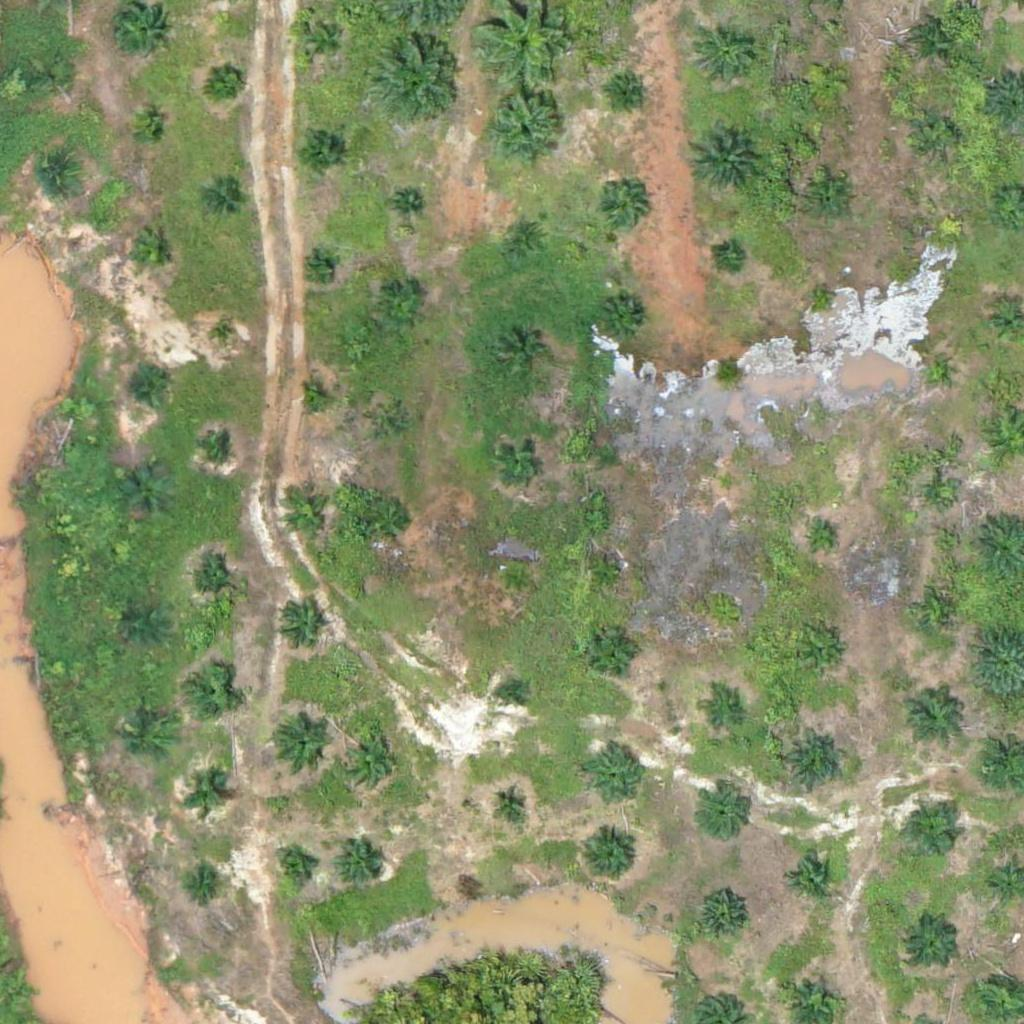Kelapa_Sawit: (481, 86, 569, 174), (372, 35, 460, 123), (687, 122, 762, 198), (899, 683, 962, 746), (784, 729, 847, 792), (338, 730, 401, 793), (695, 24, 757, 87), (578, 826, 640, 889), (582, 744, 644, 807), (111, 1, 173, 64), (272, 712, 334, 775), (368, 495, 418, 546), (698, 788, 748, 839), (695, 889, 745, 940), (786, 853, 836, 904), (588, 625, 638, 676), (912, 15, 962, 66), (913, 109, 963, 160), (801, 55, 851, 106), (281, 489, 331, 540), (127, 228, 177, 279), (910, 808, 960, 858), (906, 918, 956, 968), (807, 176, 857, 226), (189, 560, 239, 610), (187, 669, 237, 719), (276, 602, 326, 652), (336, 838, 386, 888), (596, 182, 646, 232), (599, 296, 649, 346), (496, 435, 546, 485), (496, 328, 546, 378), (503, 214, 553, 264), (376, 284, 426, 334), (295, 124, 345, 174), (123, 468, 173, 518), (298, 15, 348, 65), (125, 719, 175, 769), (701, 694, 739, 732), (186, 774, 224, 812), (187, 865, 225, 903), (274, 848, 312, 886), (127, 369, 165, 407), (806, 637, 843, 675), (493, 785, 530, 823), (497, 561, 535, 598), (371, 406, 409, 443), (130, 113, 168, 150), (127, 607, 164, 645), (37, 59, 75, 96), (210, 61, 247, 99), (590, 555, 627, 593), (206, 185, 243, 222), (38, 157, 75, 194), (716, 245, 741, 271), (928, 601, 953, 627), (921, 356, 946, 381), (926, 484, 951, 509), (809, 527, 834, 552), (809, 283, 834, 308), (499, 682, 524, 707), (307, 255, 332, 280), (300, 385, 325, 410), (212, 324, 237, 349), (206, 436, 231, 461), (617, 81, 642, 106), (715, 472, 740, 497), (395, 191, 419, 216)
